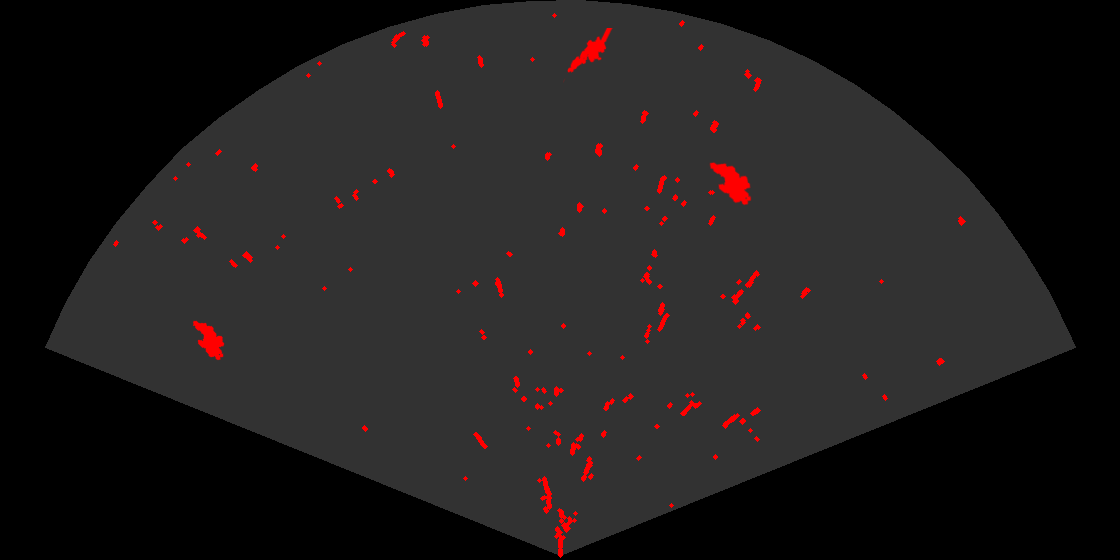AUV: (708, 161, 753, 207), (191, 319, 226, 362)
frogman: (563, 28, 613, 84)
